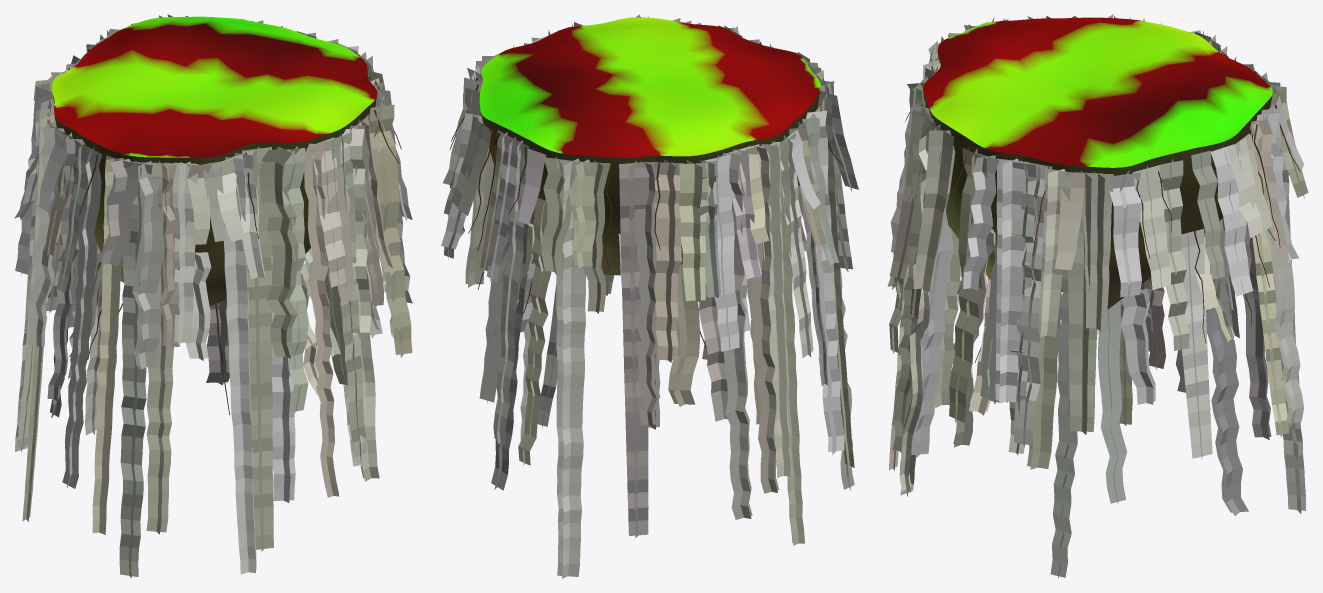
Rendered from SM_H11_Floater05.fbx.
3 views of the same model, side by side, from view 1: azimuth 30°, elevation 25°; view 2: azimuth 150°, elevation 25°; view 3: azimuth 270°, elevation 25° (orthographic). The views are drawn at different scales.
Parts seen in each view (by area): view 1: SM_H11_Floater05_Ivy, SM_H11_Floater05; view 2: SM_H11_Floater05_Ivy, SM_H11_Floater05; view 3: SM_H11_Floater05_Ivy, SM_H11_Floater05.
Part boxes in pixels (x1,y1,x2,y2): SM_H11_Floater05_Ivy: (14, 14, 412, 578); SM_H11_Floater05: (52, 16, 377, 306); SM_H11_Floater05_Ivy: (441, 14, 858, 578); SM_H11_Floater05: (480, 17, 820, 275); SM_H11_Floater05_Ivy: (887, 14, 1308, 577); SM_H11_Floater05: (923, 17, 1272, 309).
Bounding box in the file's own units: 25.65 × 29.25 × 24.91.
